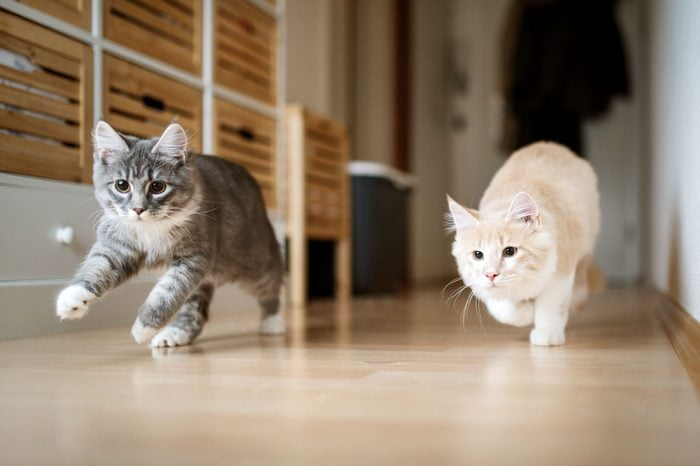cat: (48, 115, 289, 351), (442, 136, 605, 350)
